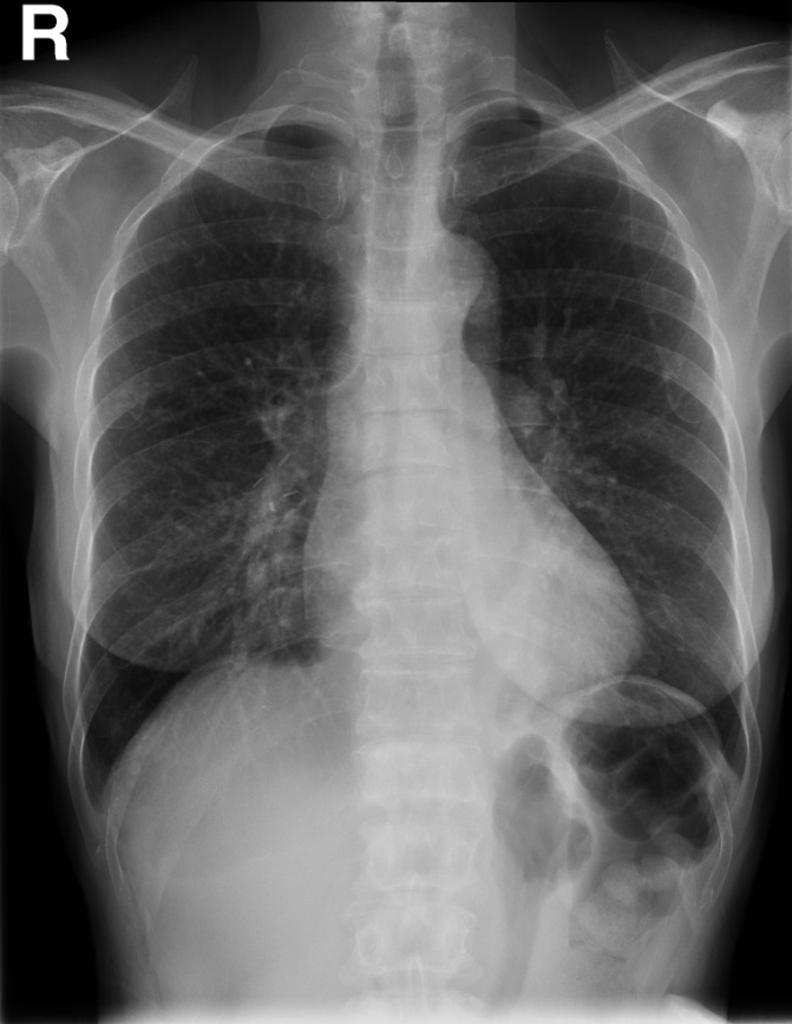cancer: (101, 200, 357, 728), (461, 131, 722, 512)
